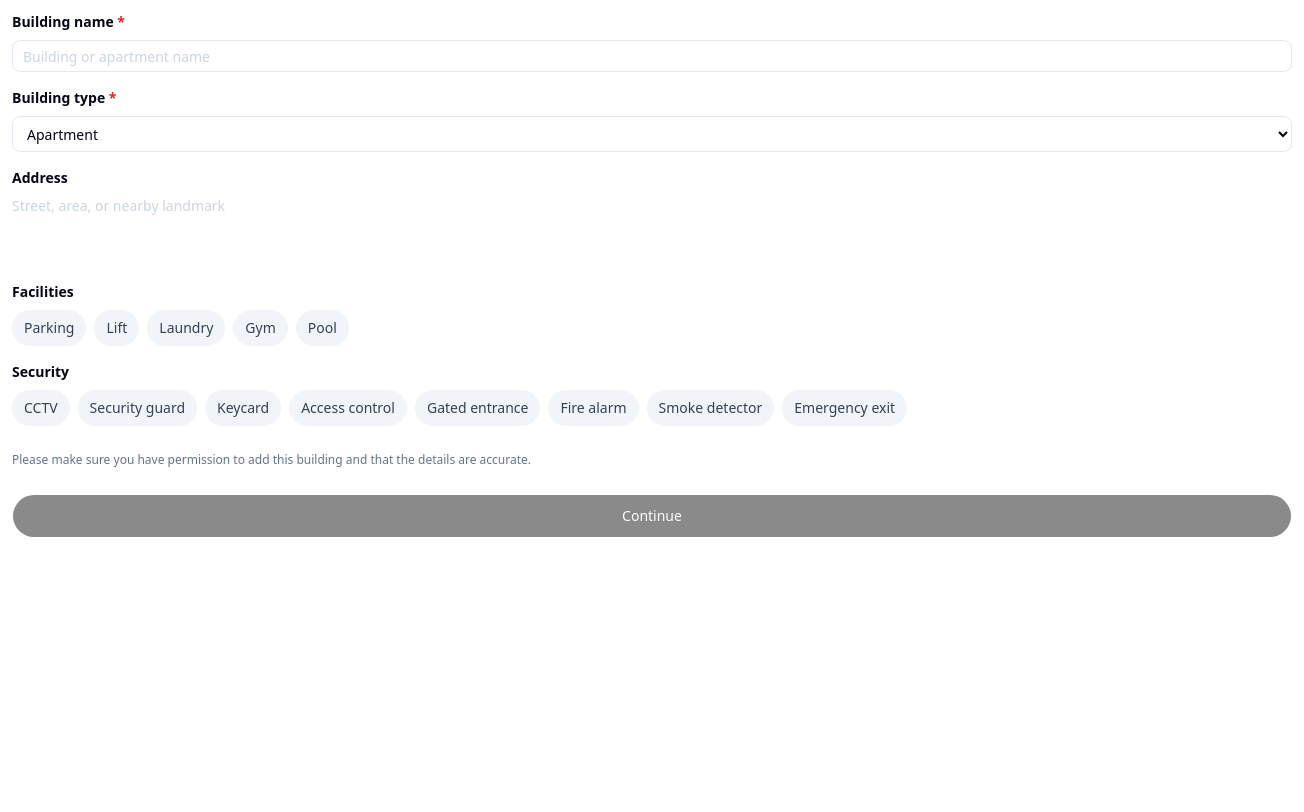
Test: BuildingForm › shows a friendly submission error and re-enables the form
Type "Riverside Place" into the field labelled "Building name" at (652, 56), box left=12, top=40, right=1292, bottom=72
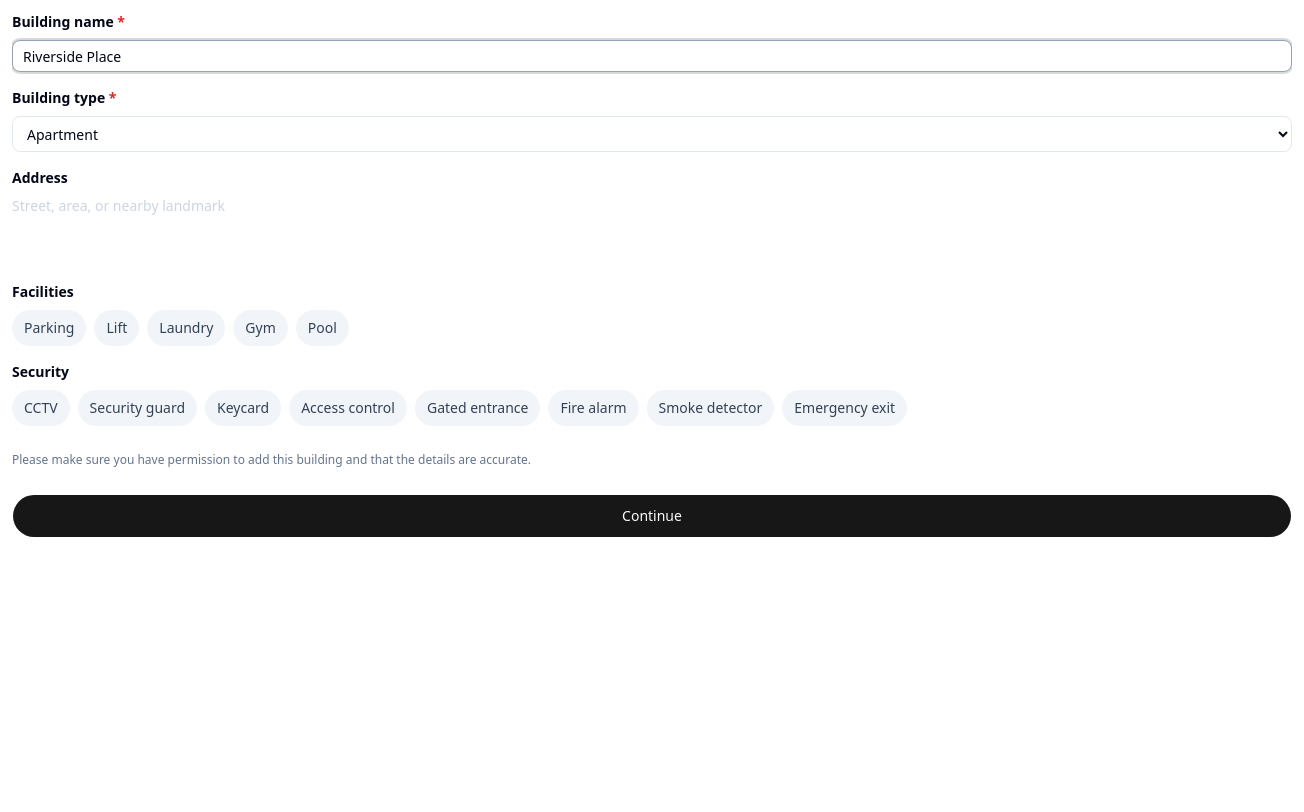
Click the button "Continue" at (652, 516), box left=12, top=494, right=1292, bottom=538
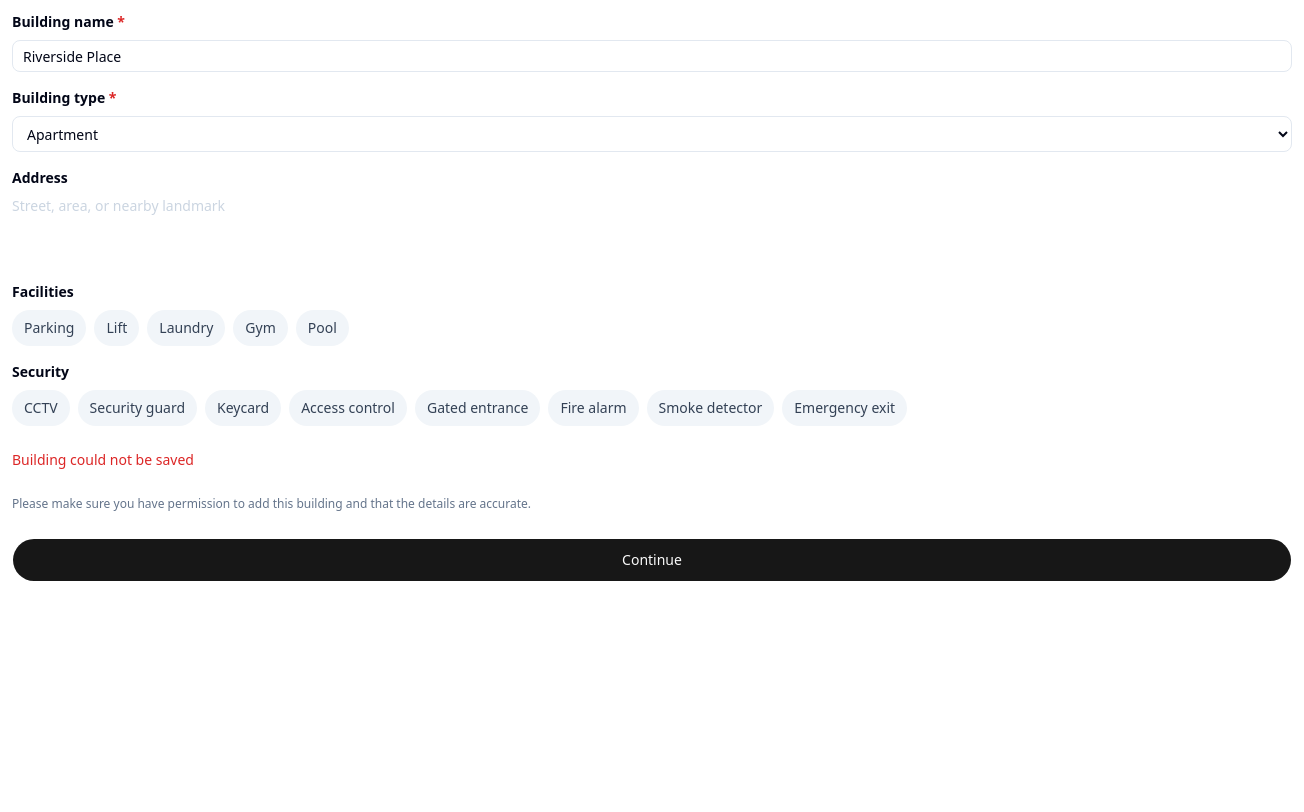
Check: the button "Continue" is enabled, box left=12, top=538, right=1292, bottom=582
Check: the message reads "Building could not be saved", box left=12, top=450, right=194, bottom=469
